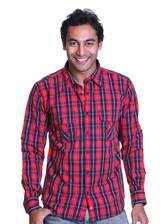clothoes: (20, 64, 153, 220)
